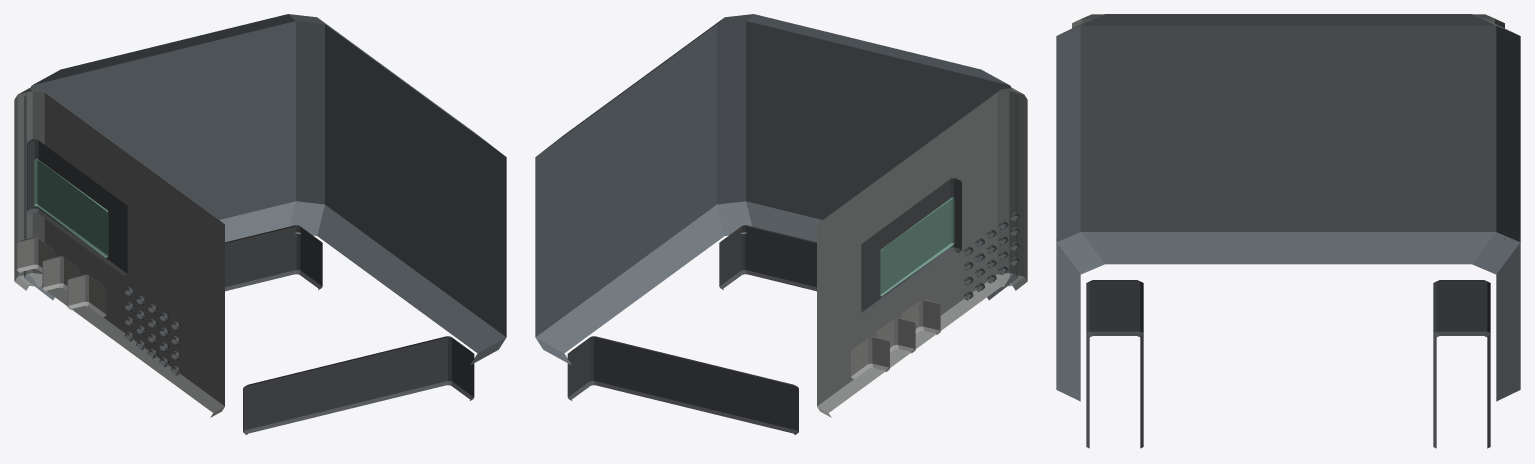
Rendered from stair-recorder.glb.
The picture shows the model from 3 angles, left to right: view 1: azimuth 30°, elevation 25°; view 2: azimuth 150°, elevation 25°; view 3: azimuth 270°, elevation 25°; orthographic projection. The views are drawn at different scales.
Visible parts, largest first — view 1: stair-recorder; view 2: stair-recorder; view 3: stair-recorder.
Boxes of the visible parts, <box> form: stair-recorder: <box>14,14,506,434</box>; stair-recorder: <box>535,14,1027,434</box>; stair-recorder: <box>1056,14,1520,448</box>.
Bounding box in the file's own units: 0.386 × 0.295 × 0.42.
